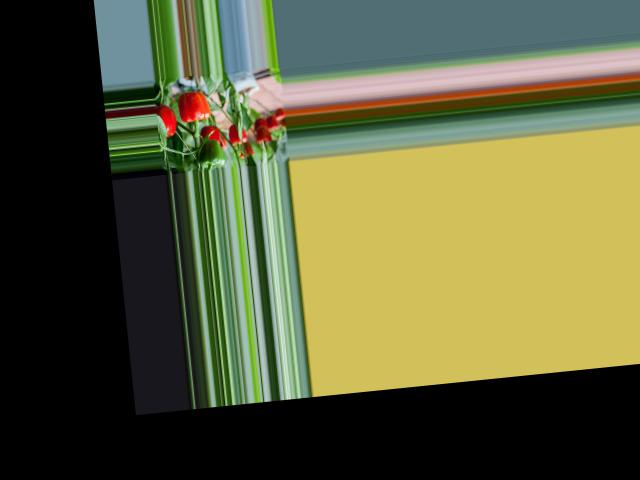bell_pepper: (227, 117, 250, 150)
